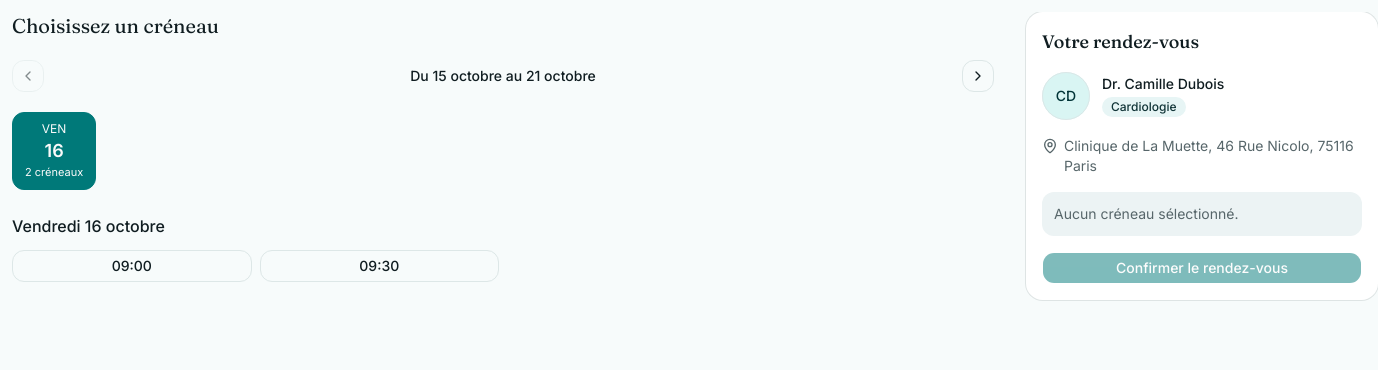
Test: BookingFlow › réserve le créneau choisi et affiche la confirmation
Click the button "09:00": coordinates (132, 266) top-left (12, 250), bottom-right (252, 282)
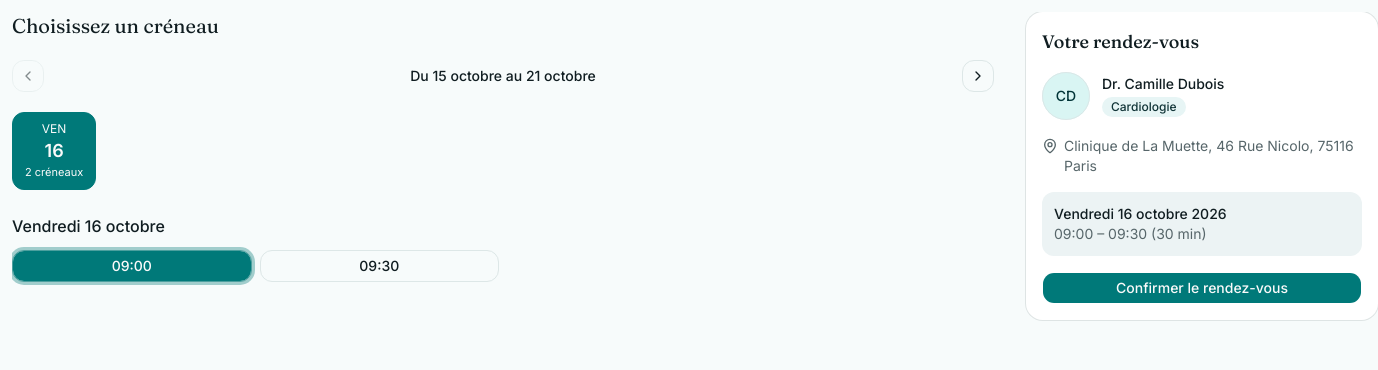
Click the button "Confirmer le rendez-vous": coordinates (1202, 288) top-left (1042, 272), bottom-right (1362, 304)
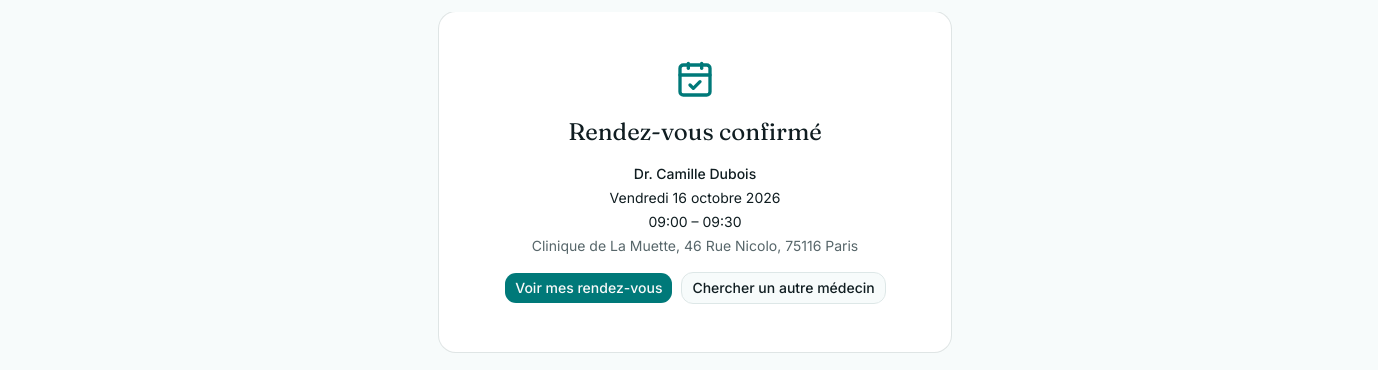
Expected: the heading "Rendez-vous confirmé" is shown, top-left (568, 116), bottom-right (822, 148)
